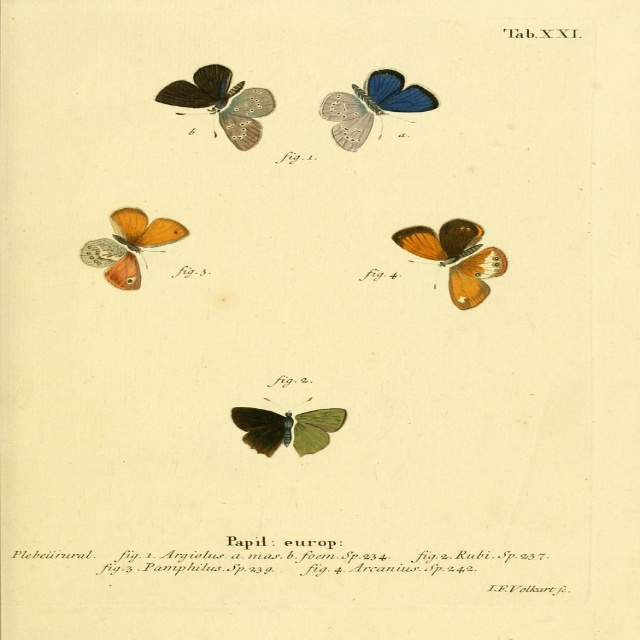Butterfly: (147, 63, 297, 151), (389, 218, 513, 311), (318, 70, 442, 153), (75, 207, 191, 289), (231, 402, 351, 461)
